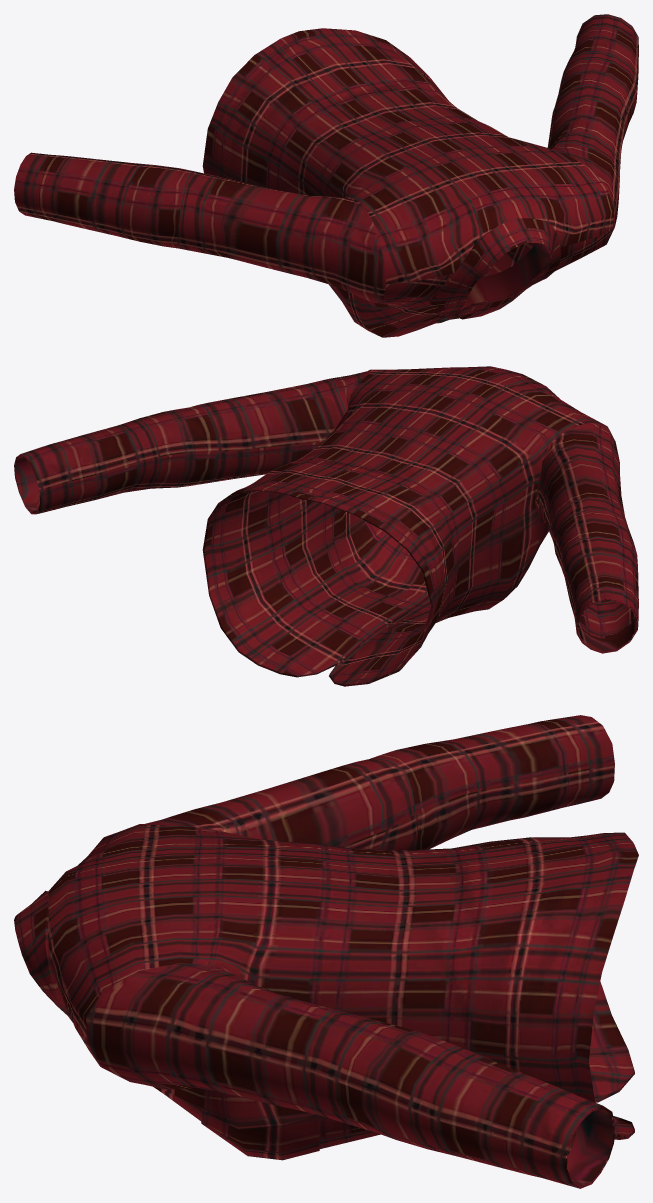
3 renders of one model, top to bottom at view 1: azimuth 30°, elevation 25°; view 2: azimuth 150°, elevation 25°; view 3: azimuth 270°, elevation 25°, orthographic. The views are drawn at different scales.
Parts seen in each view (by area): view 1: jbib_001_u_high_1.014; view 2: jbib_001_u_high_1.014; view 3: jbib_001_u_high_1.014.
Boxes of the visible parts, x1,y1,x2,y2 form: jbib_001_u_high_1.014: (14, 14, 638, 337); jbib_001_u_high_1.014: (14, 366, 638, 686); jbib_001_u_high_1.014: (14, 715, 638, 1188).
Size of the model in its own units: 1.1 by 0.3271 by 0.687.
1 material, 1 textured.
